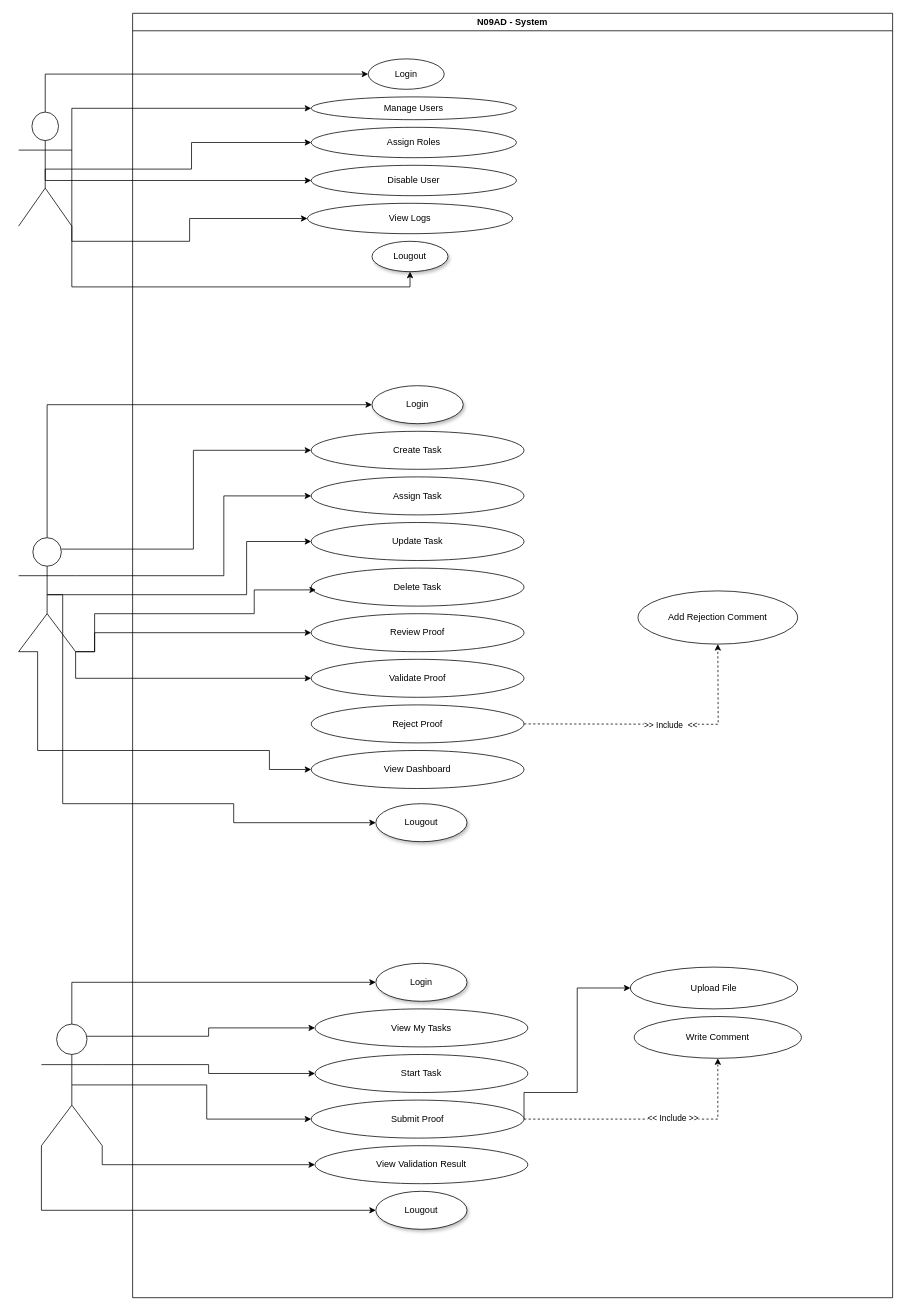
Some shapes in this 906 by 1311 pixel diagram are drawn without their labels. The centre of each missing label's shape, as x and y in pixels:
"Admin" belongs at pixel 45 168.
"Employee" belongs at pixel 71 1084.
"Manager" belongs at pixel 47 594.
